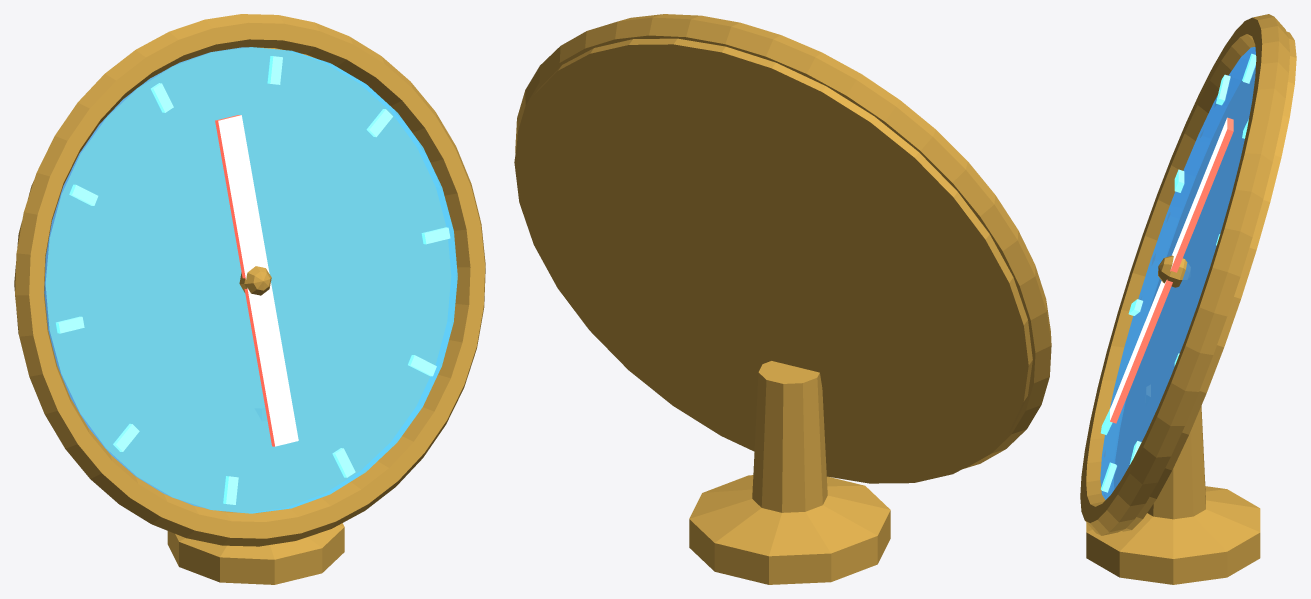
Rendered from prop_compass_whole_v01.glb.
The picture shows the model from 3 angles, left to right: view 1: azimuth 30°, elevation 25°; view 2: azimuth 150°, elevation 25°; view 3: azimuth 270°, elevation 25°; orthographic projection. The views are drawn at different scales.
Parts seen in each view (by area): view 1: compass, needle; view 2: compass; view 3: compass, needle.
Boxes of the visible parts, x1,y1,x2,y2 form: compass: [14, 14, 485, 584]; needle: [215, 115, 298, 446]; compass: [514, 14, 1051, 584]; compass: [1080, 14, 1296, 584]; needle: [1110, 117, 1233, 423].
Bounding box in the file's own units: 0.96 × 0.9745 × 0.3784.
